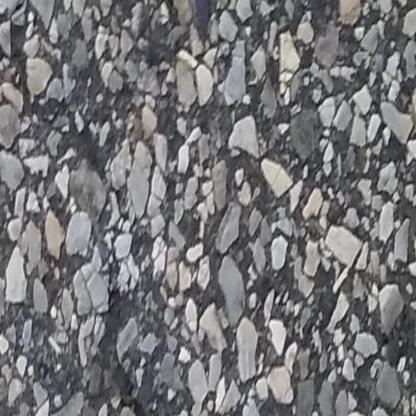Cracks: (0, 28, 111, 180), (97, 273, 167, 416)
